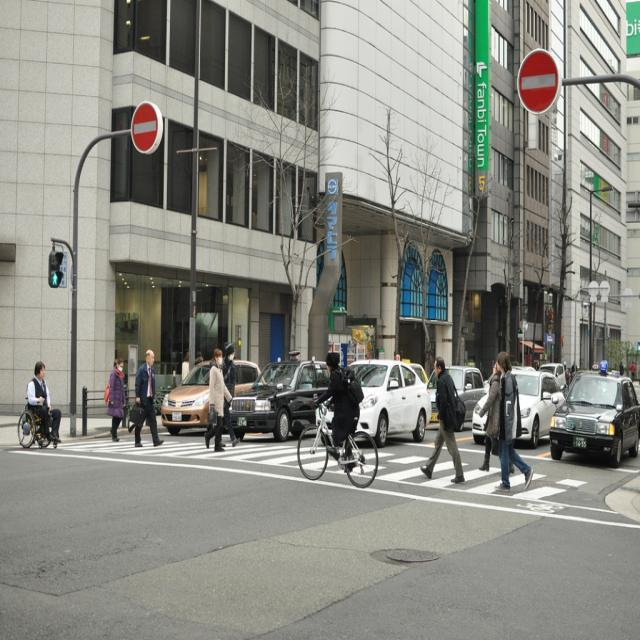road_sign: (516, 49, 558, 112), (132, 100, 163, 156)
traffic light: (48, 242, 64, 290)
